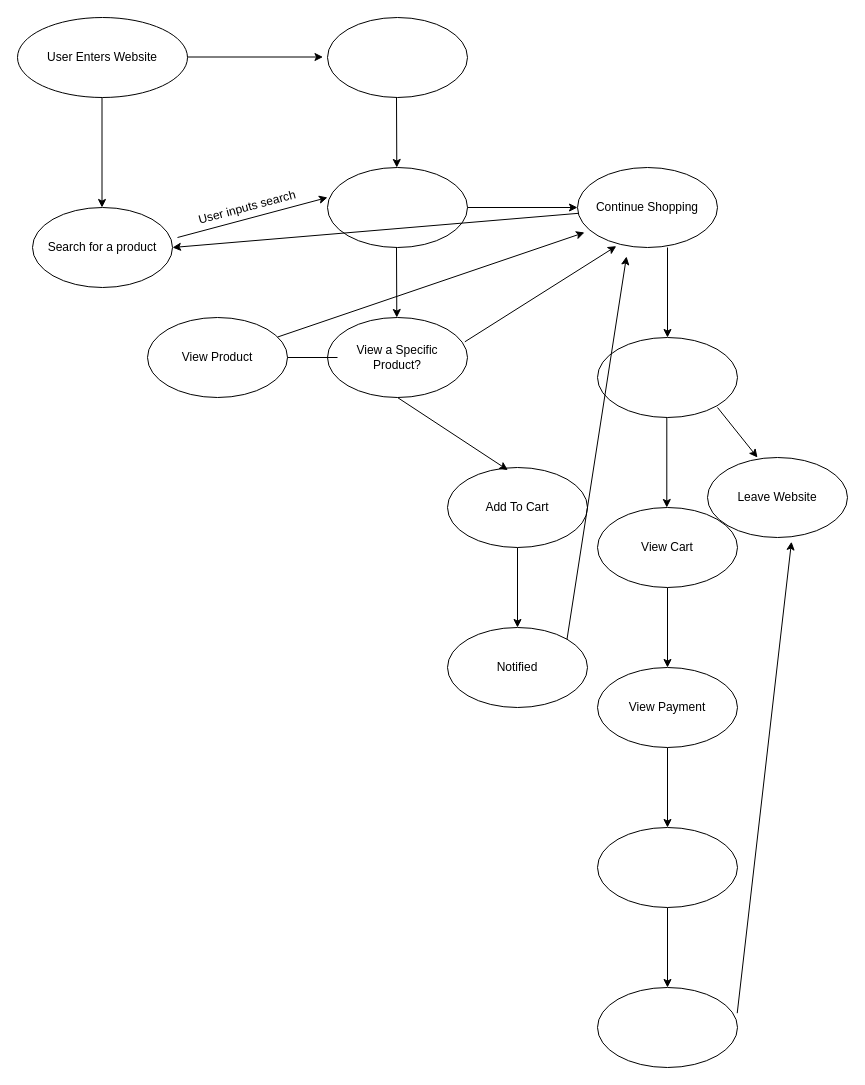
The diagram is 865 pixels wide and 1085 high, and some of its shapes have lost their labels. The shapes that lost their labels are listed below. From the top down, each one's centre as x and y in pixels, then its label:
(x=397, y=57): Explore Home Page
(x=397, y=207): Look over Products
(x=667, y=377): Checkout
(x=667, y=867): Order Confirmation
(x=667, y=1027): Email
